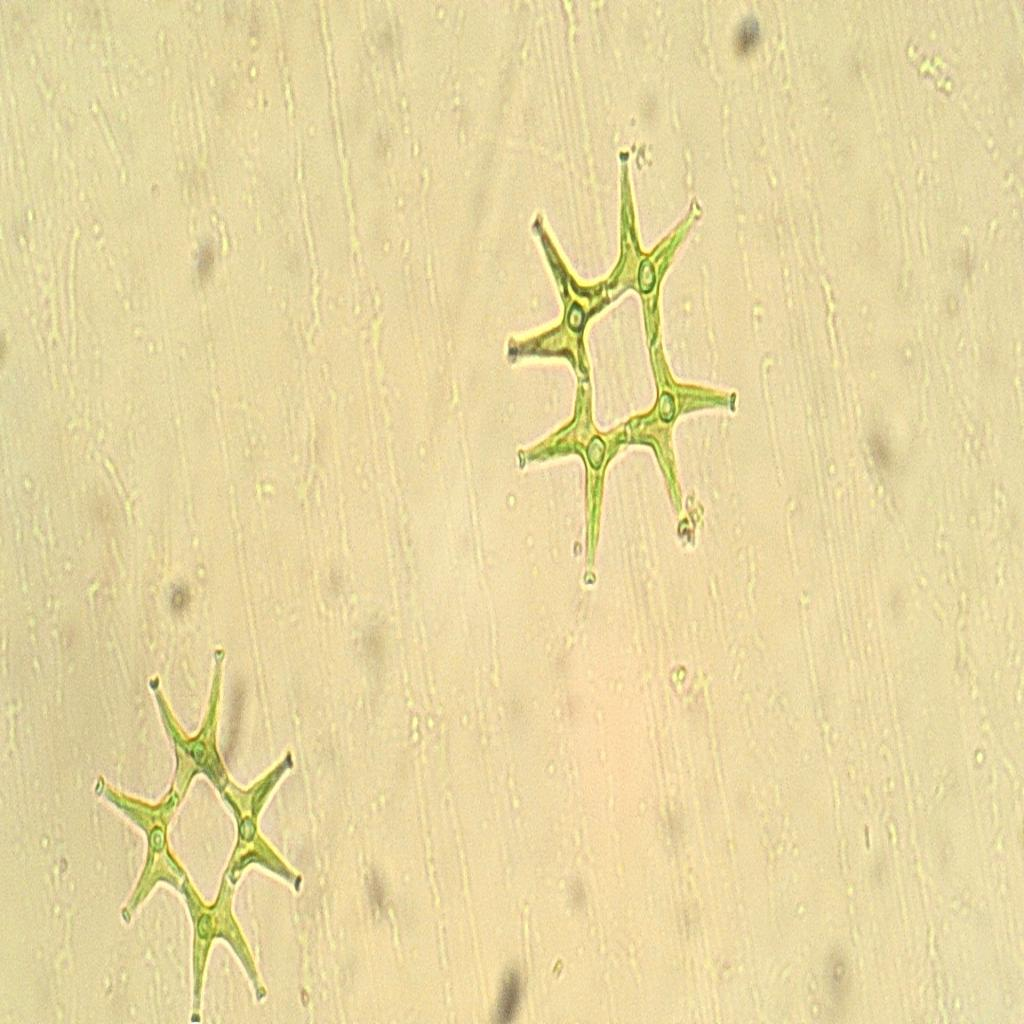Pediastrum_10: (482, 115, 759, 594)
